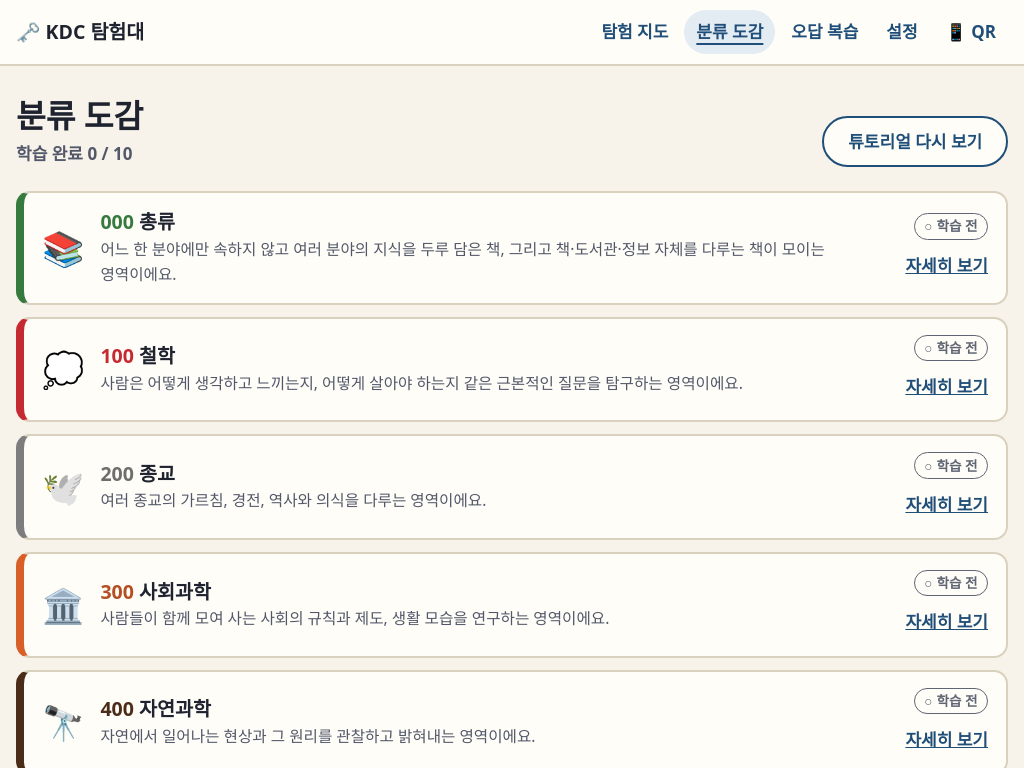
Test: SCR-08 분류 도감 › 10개 주류를 번호순으로 보여 주고 상세 화면으로 이동한다
Expected: the heading "000 총류" is shown, left=100, top=208, right=175, bottom=235
Expected: the text "학습 완료 0 / 10" is shown, left=16, top=140, right=143, bottom=167
Click the link named "자세히 보기: 200 종교".
click(947, 504)  # box left=905, top=487, right=988, bottom=522
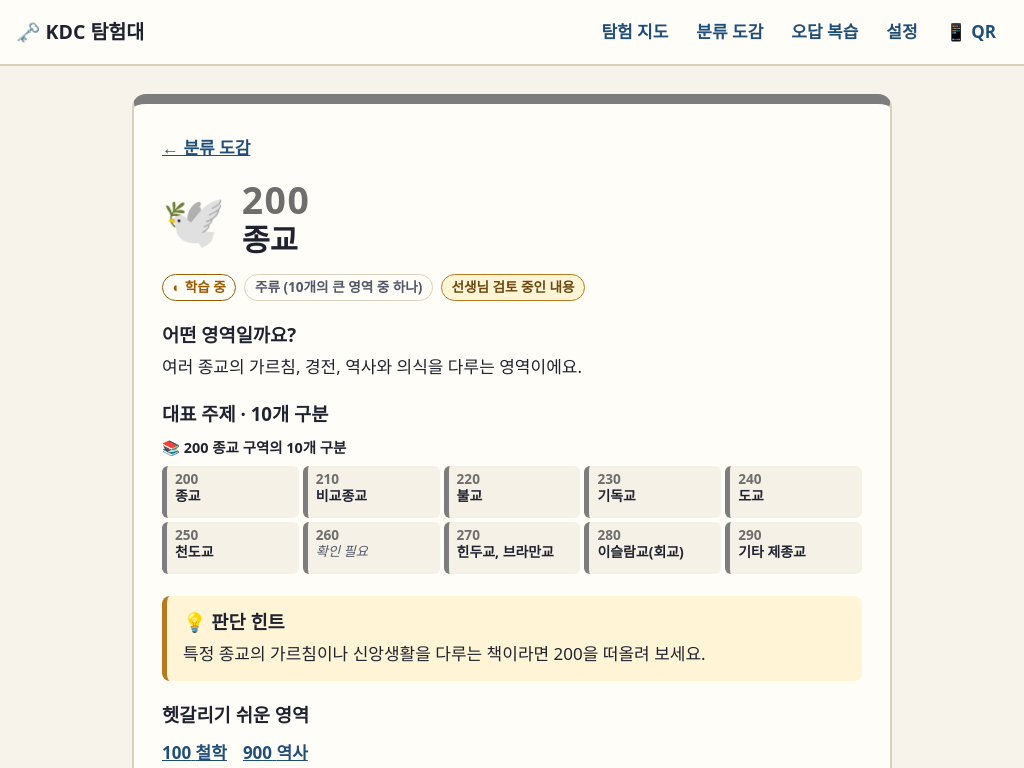
Result: the heading "종교" is shown at left=242, top=218, right=298, bottom=260
